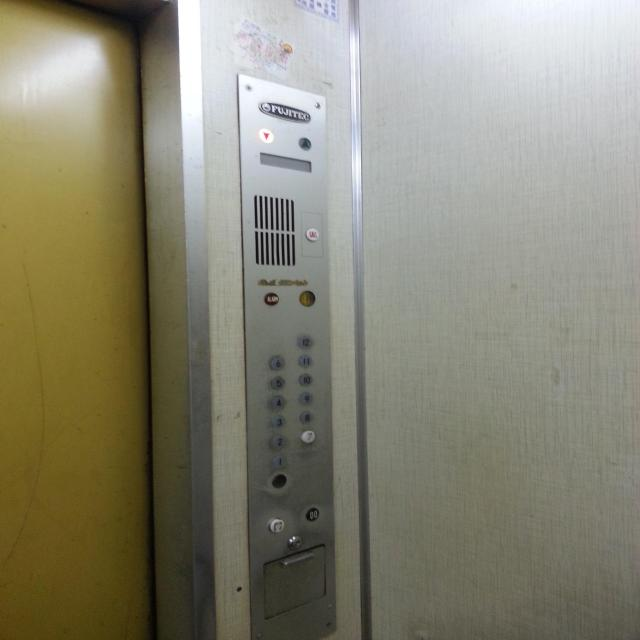1: (272, 455, 286, 468)
10: (300, 374, 311, 386)
11: (299, 355, 312, 367)
12: (298, 336, 312, 349)
2: (271, 435, 285, 448)
3: (272, 416, 284, 428)
4: (272, 396, 285, 408)
5: (271, 376, 285, 389)
6: (270, 357, 285, 370)
7: (301, 430, 314, 443)
8: (300, 412, 313, 423)
9: (299, 392, 312, 404)
DO: (305, 508, 320, 520)
blur: (299, 291, 316, 306), (271, 473, 287, 488)
call: (306, 228, 319, 241)
down: (259, 127, 274, 144)
keyhole: (288, 536, 301, 550)
text: (263, 293, 279, 305)
unknown: (270, 519, 284, 532)
up: (298, 136, 312, 150)
